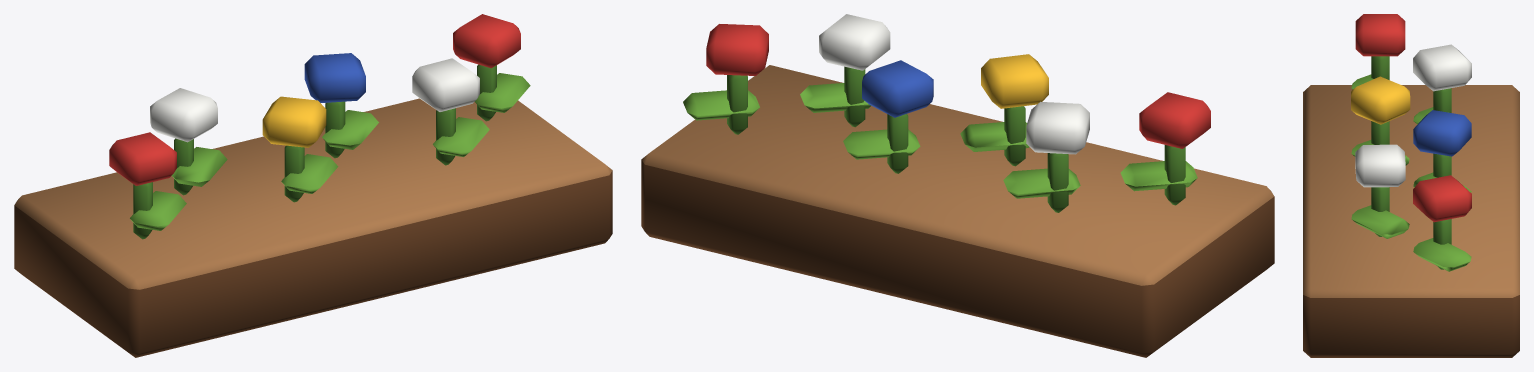
The model's file is P_MedFlowerBed.fbx.
3 views of the same model, side by side, from view 1: azimuth 30°, elevation 25°; view 2: azimuth 150°, elevation 25°; view 3: azimuth 270°, elevation 25° (orthographic). The views are drawn at different scales.
Parts seen in each view (by area): view 1: M_FlowerBed; view 2: M_FlowerBed; view 3: M_FlowerBed.
Part boxes in pixels (x1=…): M_FlowerBed: x1=14, y1=14, x2=612, y2=357; M_FlowerBed: x1=641, y1=14, x2=1274, y2=357; M_FlowerBed: x1=1303, y1=14, x2=1519, y2=357.
Size of the model in its own units: 1.6 by 0.55 by 0.7.
Materials: 1 (1 with a texture image).
